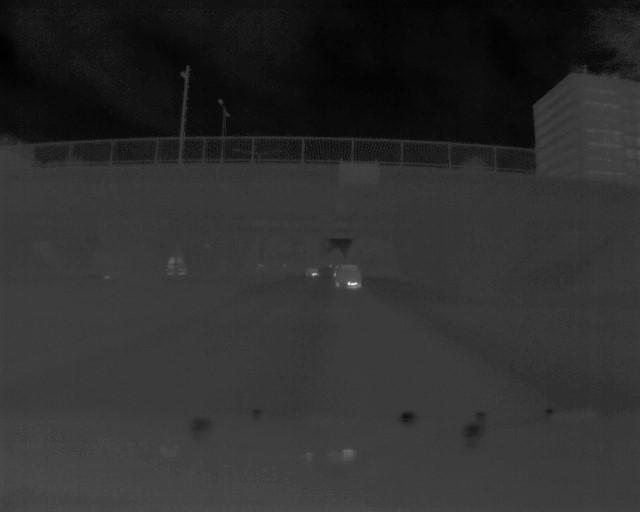car: (334, 265, 365, 294)
